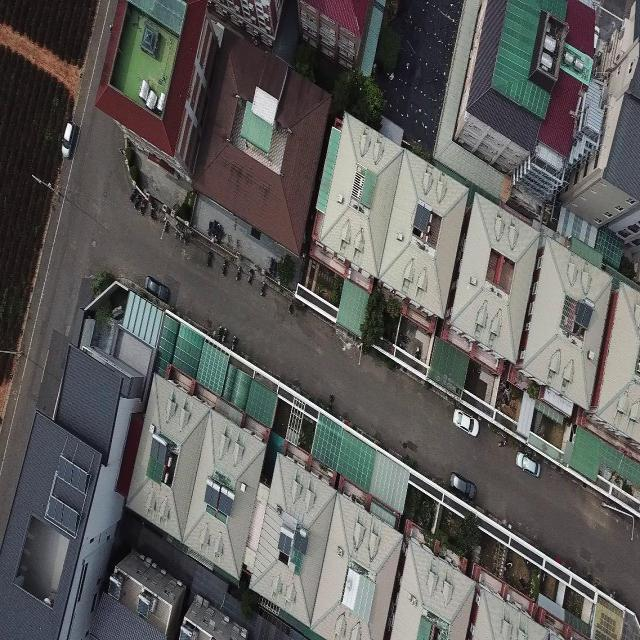bike: (258, 280, 268, 298), (234, 264, 242, 282), (230, 335, 237, 351), (134, 194, 141, 210), (130, 188, 137, 203), (498, 438, 507, 449), (221, 259, 227, 275), (248, 269, 254, 285), (222, 328, 227, 344), (218, 325, 222, 341)
car: (449, 471, 477, 501), (453, 408, 479, 437), (145, 275, 170, 303), (61, 120, 79, 158), (515, 451, 540, 478)
